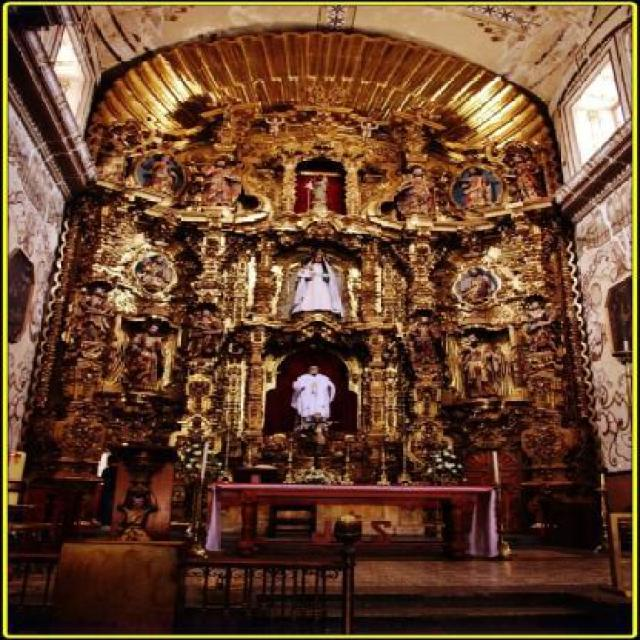Person: (288, 357, 339, 441), (292, 251, 343, 315), (462, 333, 502, 396), (128, 325, 162, 389), (118, 492, 159, 542), (522, 302, 563, 351), (198, 158, 237, 208), (395, 168, 434, 214), (81, 286, 112, 336), (106, 132, 139, 176), (193, 310, 224, 352), (411, 317, 440, 360), (462, 168, 493, 207), (458, 266, 488, 305), (148, 154, 178, 191), (511, 156, 538, 196), (138, 258, 170, 290), (313, 176, 329, 202), (358, 122, 378, 142), (264, 118, 284, 136)
